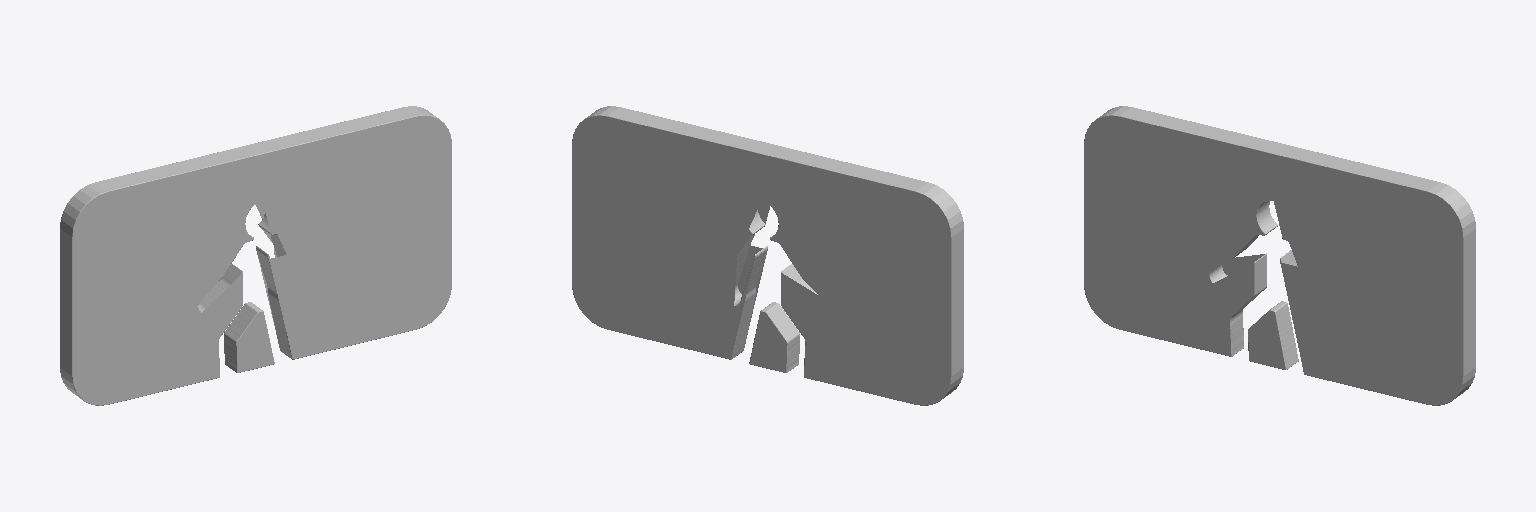
3 renders of one model, left to right at view 1: azimuth 30°, elevation 25°; view 2: azimuth 150°, elevation 25°; view 3: azimuth 330°, elevation 25°, orthographic.
Visible parts, largest first — view 1: POSE27; view 2: POSE27; view 3: POSE27.
Boxes of the visible parts, <box> form: POSE27: <box>60,106,451,405</box>; POSE27: <box>572,106,963,405</box>; POSE27: <box>1084,106,1475,405</box>.
Size of the model in its own units: 12 by 6.45 by 0.7.